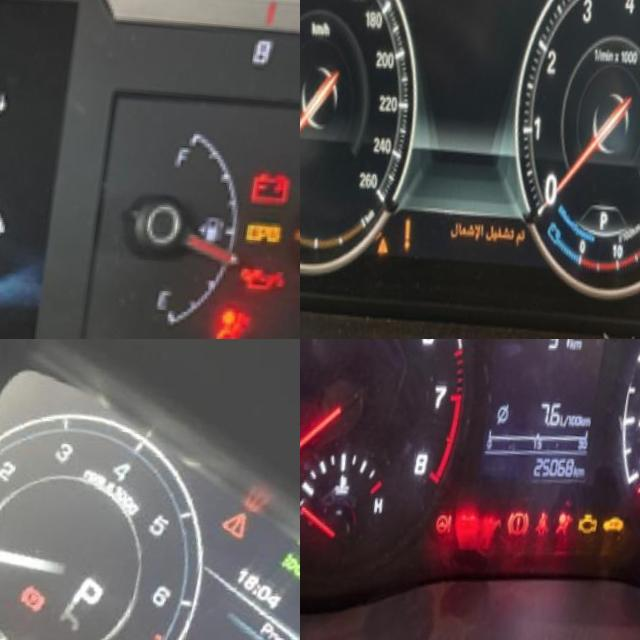Central Warning lamp: (389, 229, 408, 253)
Electronic Power Steering: (444, 500, 472, 543)
